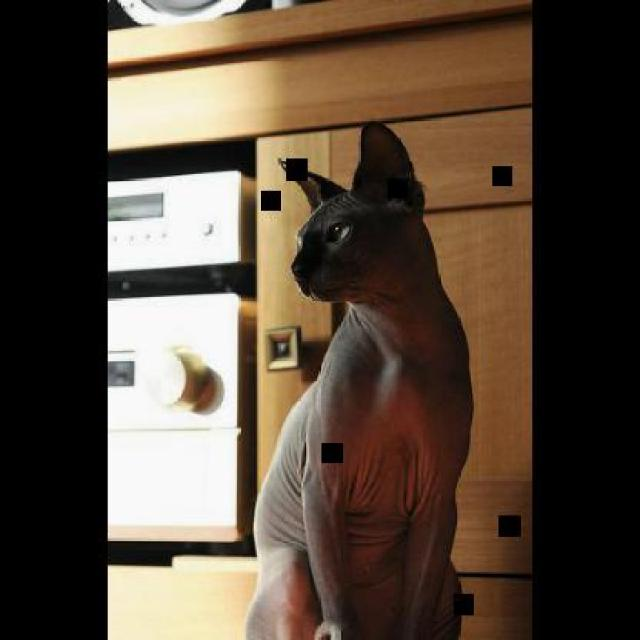unauthorized: (277, 119, 475, 638)
